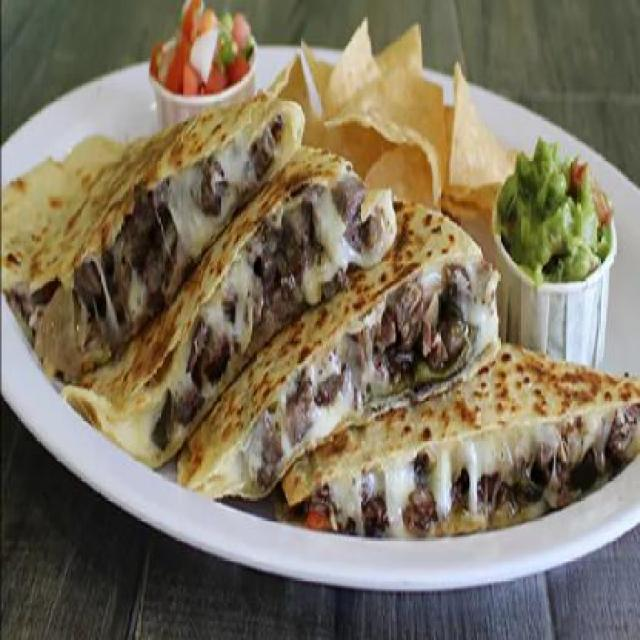chicken quesadilla: (2, 82, 640, 553)
guacamole: (498, 126, 616, 334)
nachos: (270, 11, 518, 217)
